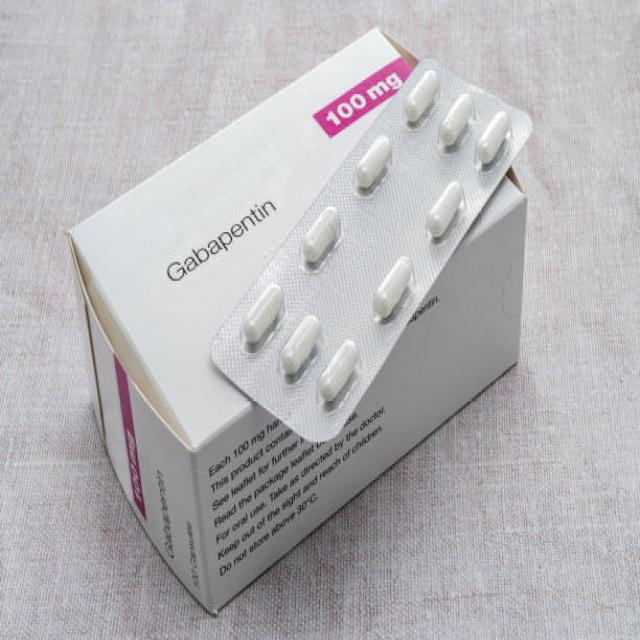Pill: (260, 297, 342, 409), (354, 237, 436, 339), (305, 321, 383, 428), (229, 268, 302, 371), (414, 164, 487, 260), (293, 190, 357, 291), (424, 78, 493, 165), (346, 121, 410, 212), (466, 97, 531, 185), (393, 56, 457, 144)
